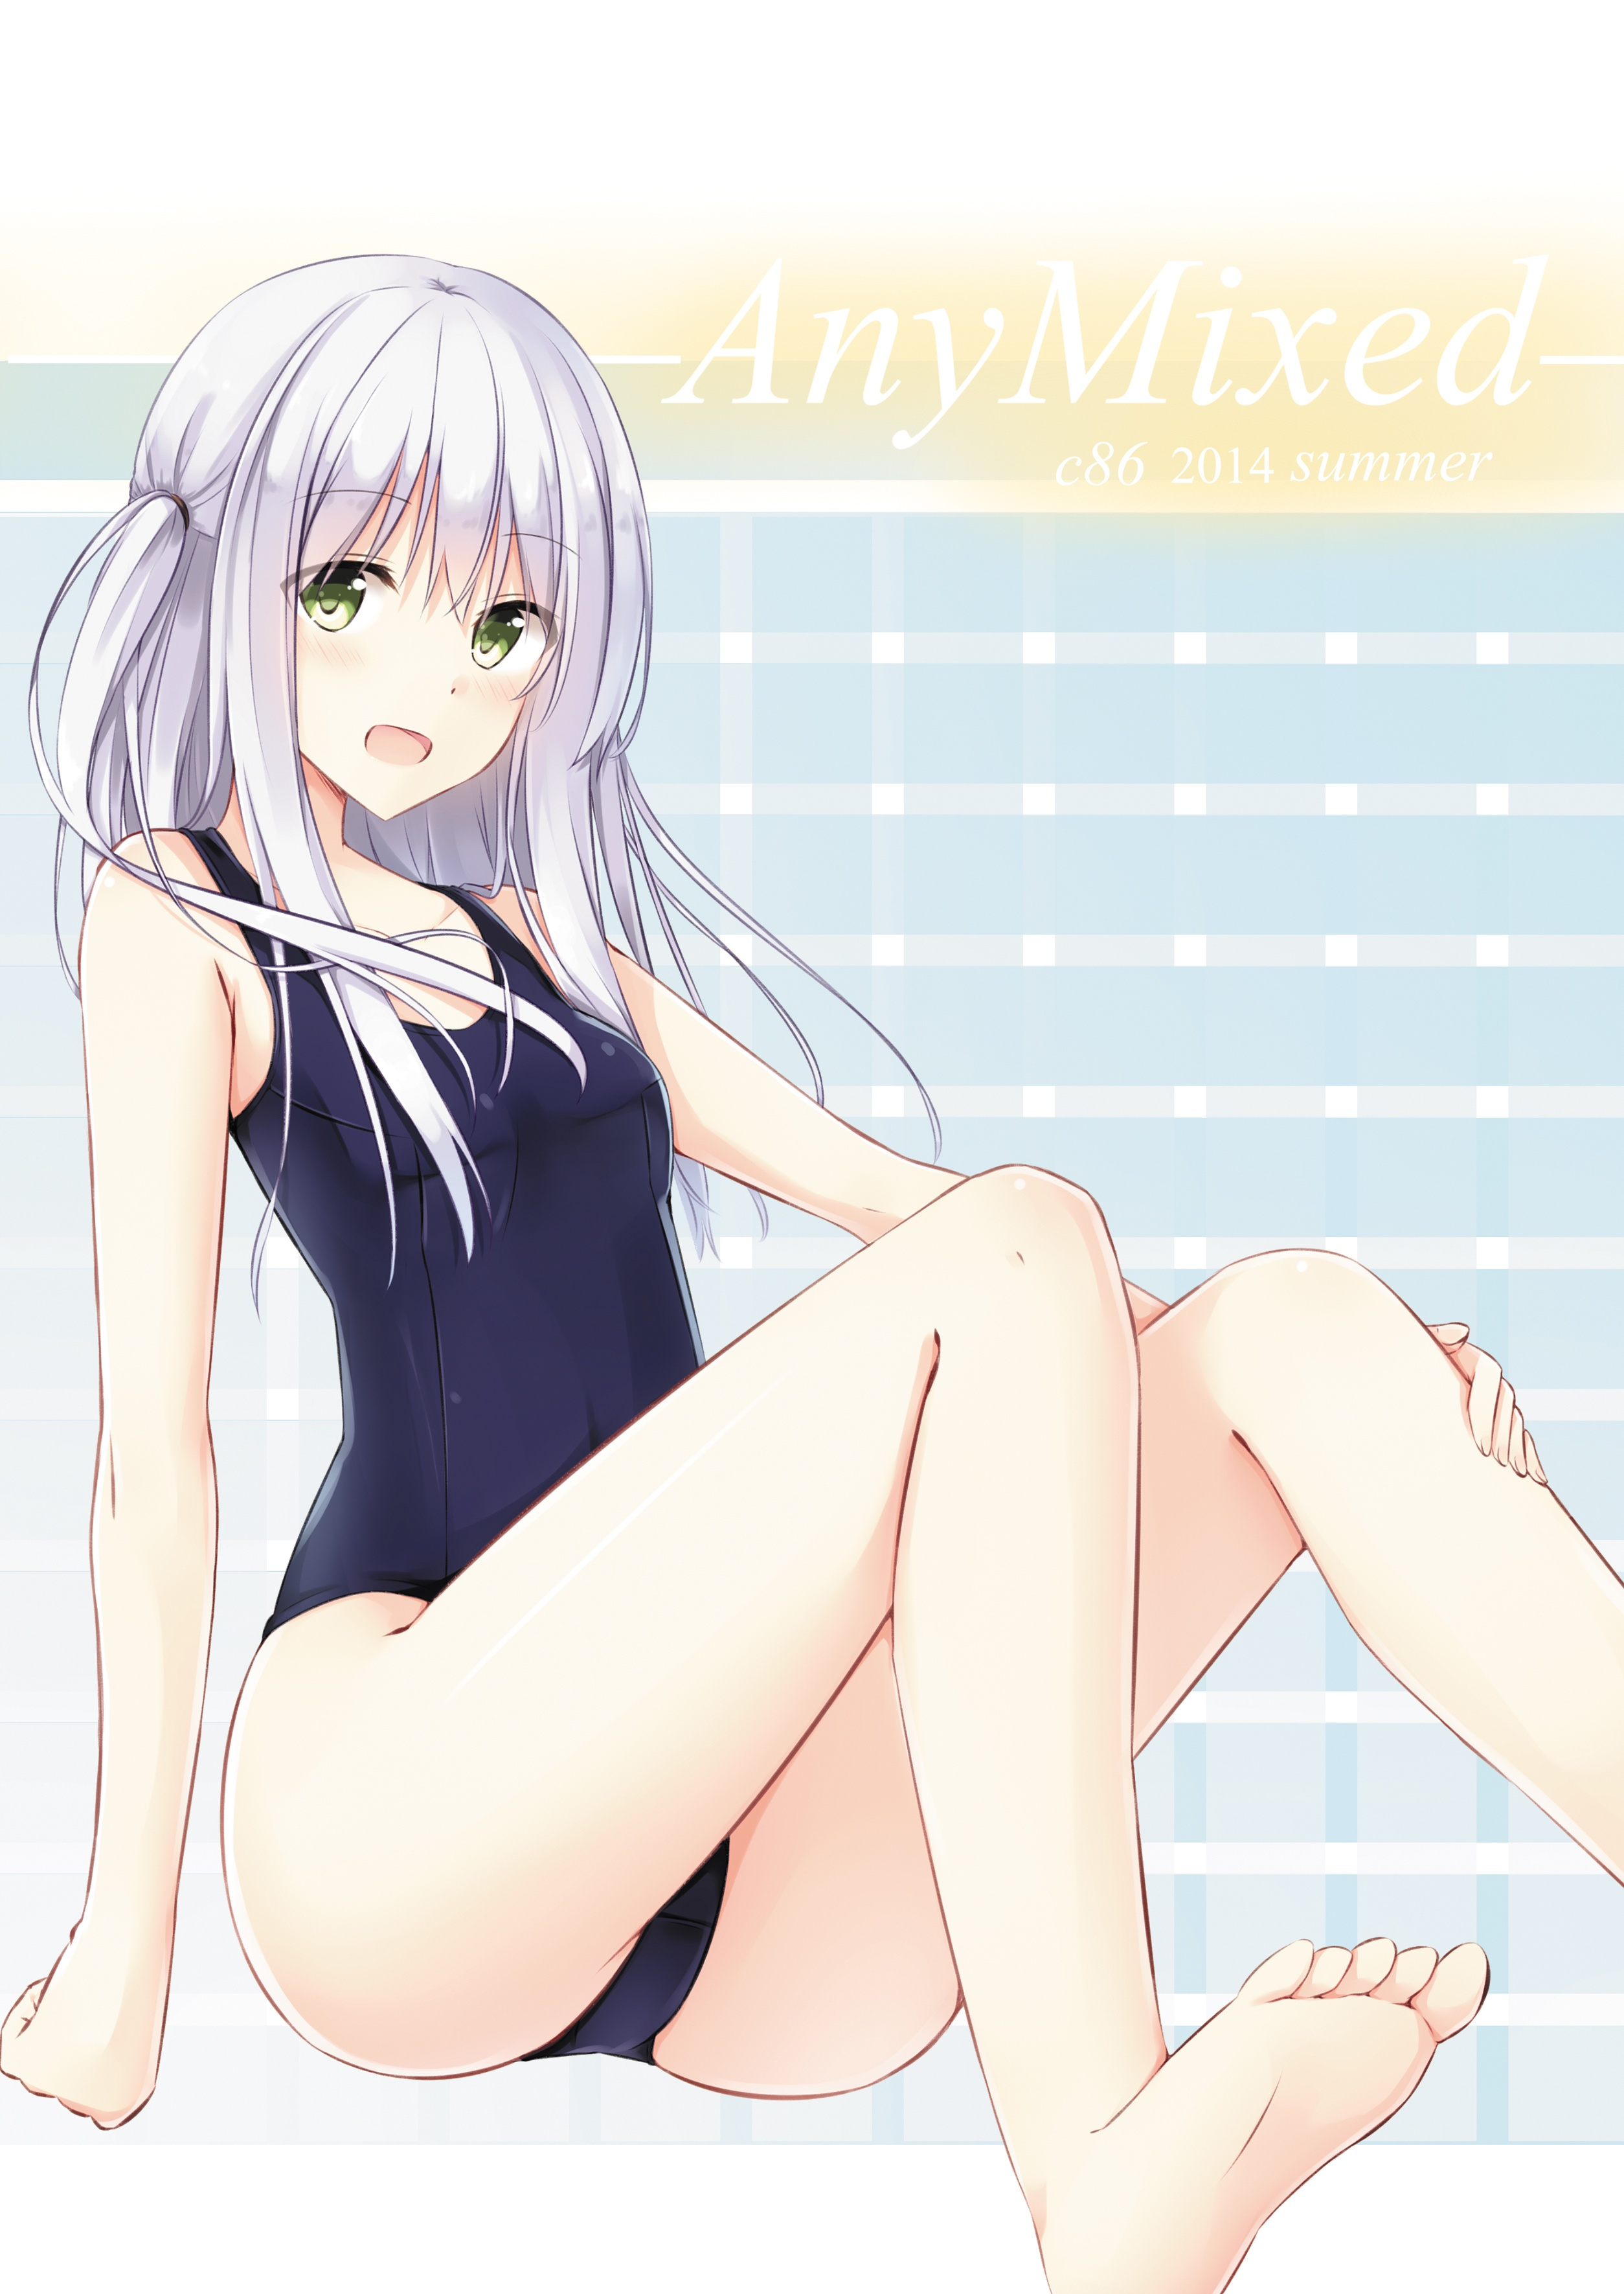纸片人正脸: (82, 239, 662, 843)
